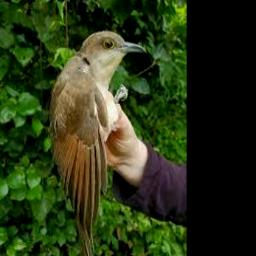Cuckoo: (49, 31, 146, 256)
